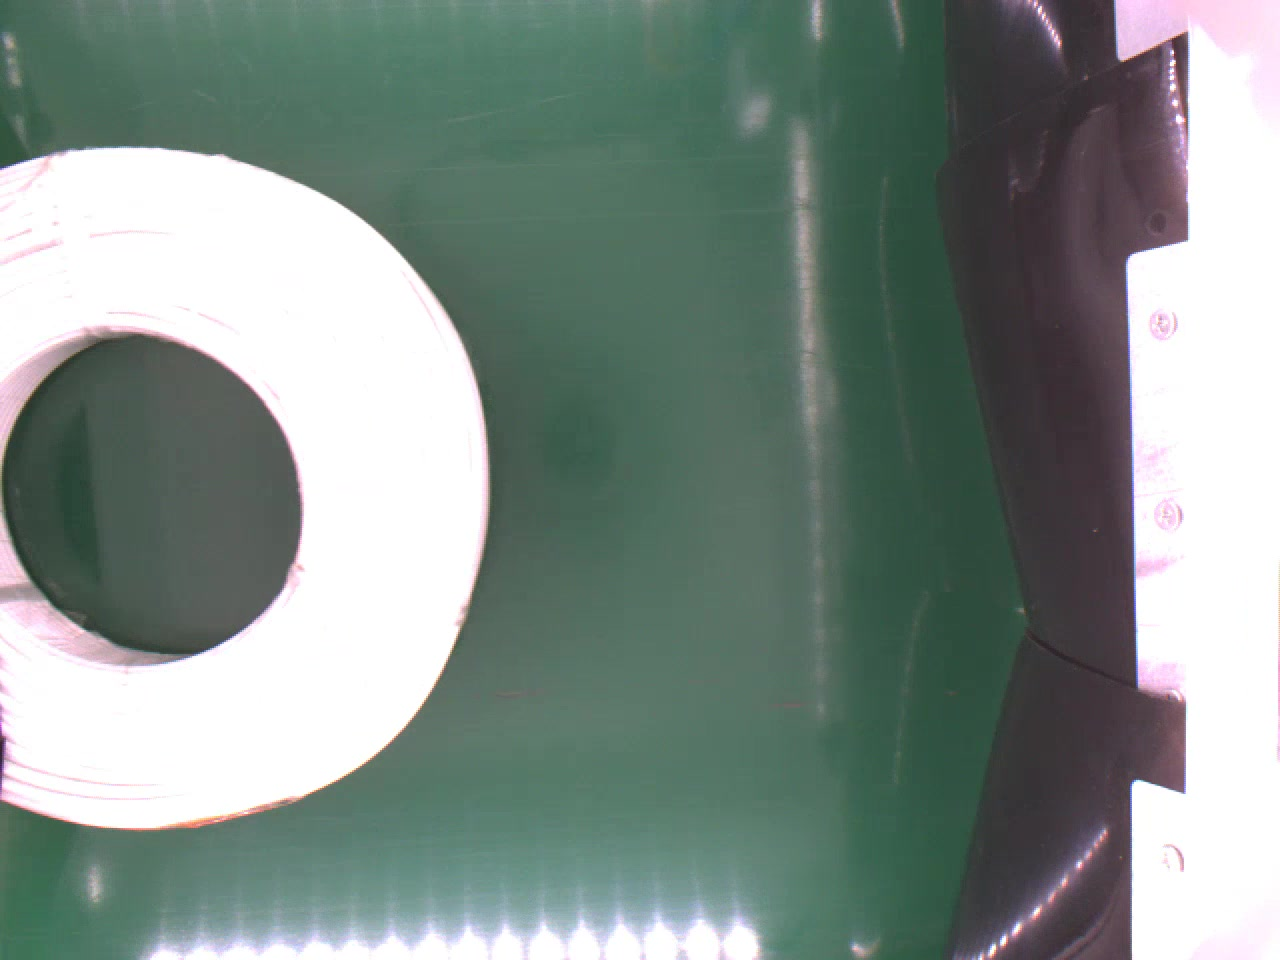white: (0, 140, 495, 828)
